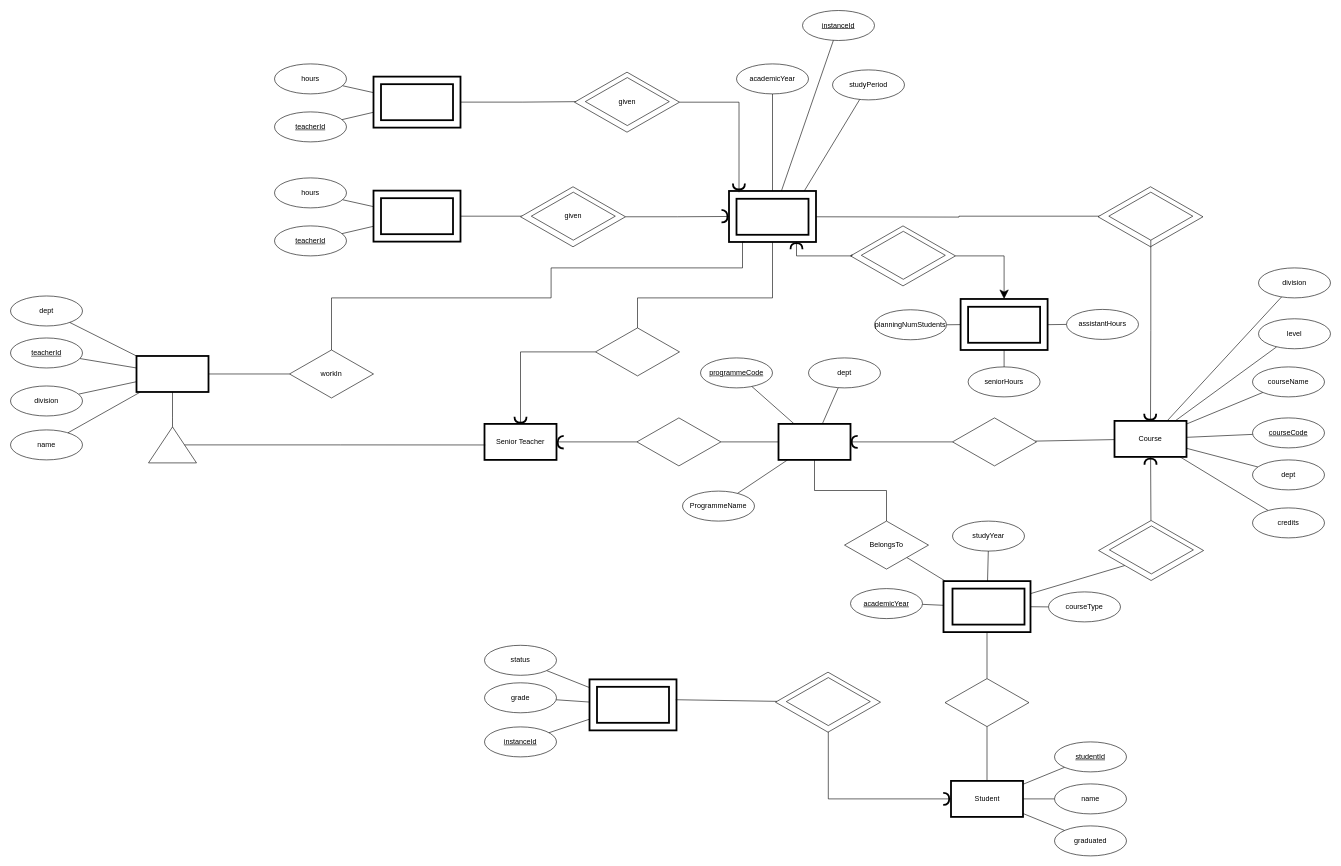
This 1341x866 diagram has some shape labels left out. Each missing label, with the box of its shape:
Assigned Hours: (380, 197, 454, 235)
Course Instance: (735, 198, 809, 235)
Course Planning: (967, 306, 1041, 343)
enrollsIn: (944, 678, 1029, 727)
examines: (595, 327, 680, 376)
hasExecution: (1108, 192, 1193, 240)
hasPlan: (861, 231, 945, 279)
IncludedIn: (1109, 525, 1193, 574)
ISA: (148, 426, 196, 463)
oversees: (636, 417, 721, 466)
owns: (952, 417, 1036, 466)
Programme: (777, 423, 851, 460)
Programme Course: (951, 587, 1025, 625)
register: (786, 677, 870, 726)
Registration: (596, 686, 670, 723)
Reported Hours: (380, 83, 454, 121)
Teacher: (135, 355, 209, 393)
